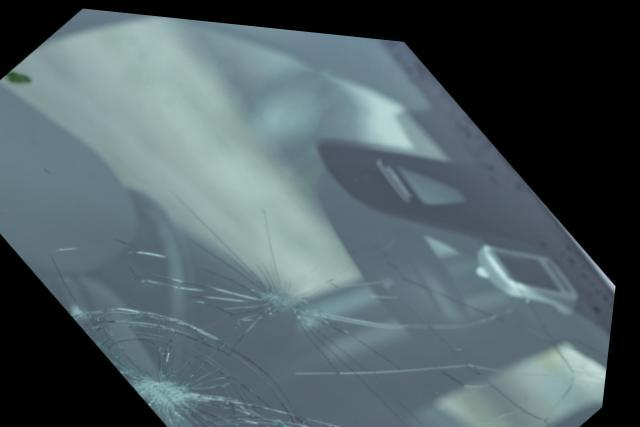glass shatter: (0, 7, 620, 427)
